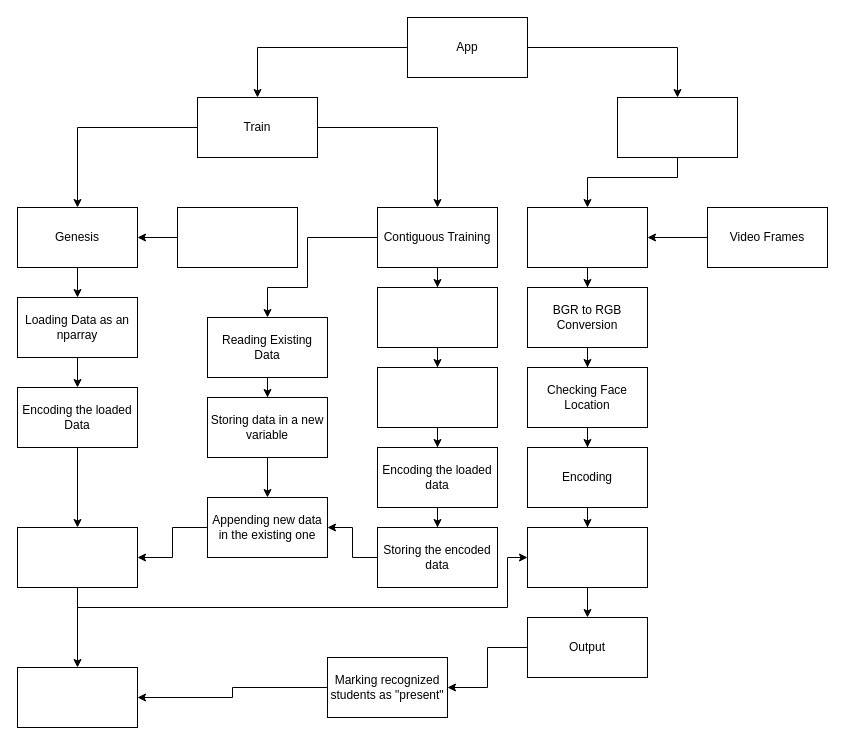
Some shapes in this 845 by 745 pixel diagram are drawn without their labels. Here are the shapes that lost their labels. From the top down, the centre of each, then its label:
At pixel 677 127: "Test".
At pixel 237 237: "Data".
At pixel 587 237: "Input".
At pixel 437 317: "New Data".
At pixel 437 397: "Loading the data as nparray".
At pixel 77 557: "Saving the trained data".
At pixel 587 557: "Comparing with trained data".
At pixel 77 697: "Adding students data to csv file".
